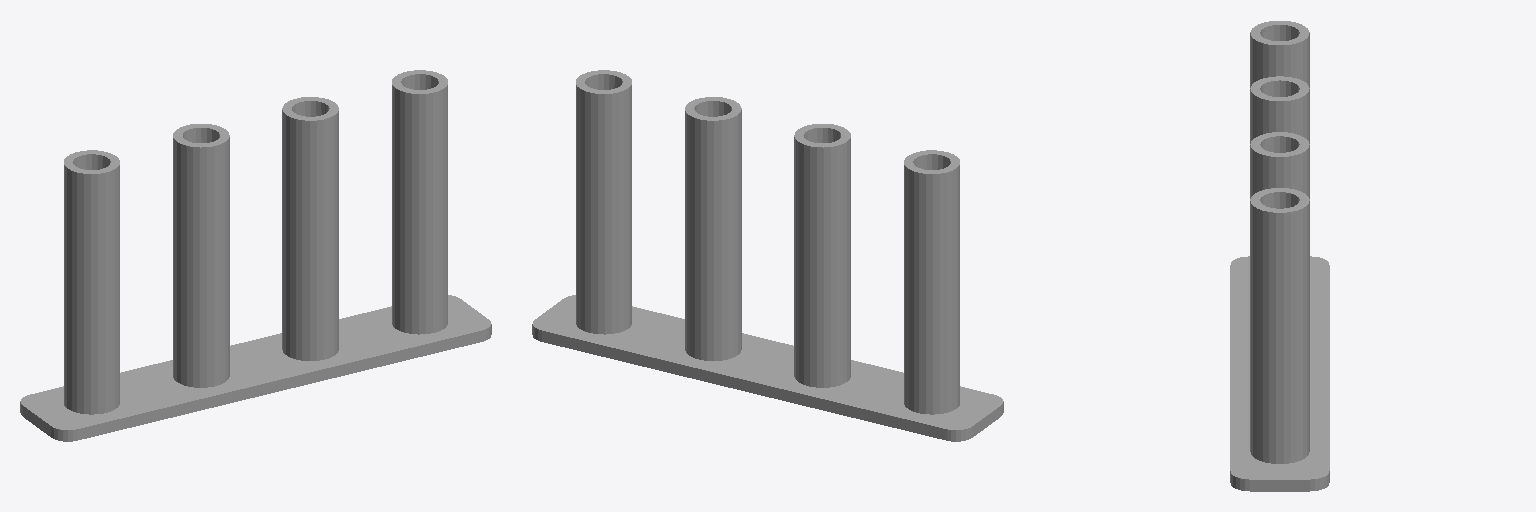
The robot description file, URDF, robot "bolt_holder":
<?xml version="1.0" ?>
<robot name="bolt_holder">
    <link name="baseLink">
        <contact>
            <lateral_friction value="0.3"/>
            <rolling_friction value="0.0"/>
            <contact_cfm value="0.0"/>
            <contact_erp value="1.0"/>
        </contact>

        <inertial>
            <origin xyz="0.060000000000000046 1.2806942662653983e-17 0.029392677294820944" rpy="0 0 0"/>
            <mass value="0.07057190648025832"/>
            <inertia ixx="6.1e-05" iyy="0.000202" izz="0.000148" ixy="-0.0" iyz="-0.0" ixz="-0.0"/>
        </inertial>
        <visual>
            <origin xyz="0 0 0" rpy="0 0 0"/>
            <geometry>
                <mesh filename="bolt_holder.stl" scale="0.001 0.001 0.001"/>
            </geometry>
            <material name="silver">
                <color rgba="0.700 0.700 0.700 1.000"/>
            </material>
        </visual>
<!--        <collision concave="yes">-->
<!--            <origin xyz="0 0 0" rpy="0 0 0"/>-->
<!--            <geometry>-->
<!--                <mesh filename="bolt_holder.stl" scale="0.001 0.001 0.001"/>-->
<!--            </geometry>-->
<!--        </collision>-->
    </link>
</robot>

--- Facts derived from the render (not from the file) ---
Views: 3 orthographic renders of the robot side by side, from view 1: azimuth 30°, elevation 25°; view 2: azimuth 150°, elevation 25°; view 3: azimuth 270°, elevation 25°.
Model bolt_holder with 1 links and 0 joints (none), rooted at baseLink, posed every joint at zero.
Links seen in each view (by area): view 1: baseLink; view 2: baseLink; view 3: baseLink.
Boxes of the visible links, x1,y1,x2,y2 form: baseLink: (20,70,491,441); baseLink: (532,70,1003,441); baseLink: (1230,21,1329,491).
Bounding box of the posed robot: 0.16 × 0.03 × 0.088 m (x, y, z).
1 mesh visuals loaded from 1 distinct referenced files (1 binary STL).